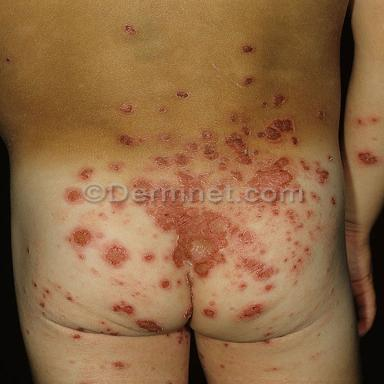Impetigo: (142, 201, 255, 277), (241, 203, 317, 275), (225, 133, 294, 189), (131, 169, 211, 188), (235, 256, 275, 279), (258, 119, 294, 141), (103, 241, 128, 267), (155, 153, 191, 168), (202, 131, 219, 160), (67, 229, 93, 247), (135, 319, 163, 333), (239, 304, 264, 319), (219, 170, 243, 184), (357, 151, 378, 165), (114, 301, 134, 315), (118, 133, 137, 147), (315, 168, 329, 185), (110, 202, 127, 214), (66, 190, 81, 203), (217, 157, 230, 170), (79, 168, 93, 180), (185, 142, 200, 152), (185, 272, 194, 288), (202, 308, 216, 318), (119, 103, 133, 113), (109, 161, 122, 171), (184, 305, 193, 319), (158, 133, 172, 142), (112, 361, 126, 370), (274, 95, 285, 106), (125, 25, 137, 35), (160, 279, 171, 289), (310, 192, 320, 203), (143, 253, 155, 262), (317, 109, 326, 120), (300, 161, 310, 170), (176, 91, 188, 98), (242, 45, 254, 52), (244, 77, 254, 85), (241, 127, 251, 135), (229, 114, 238, 122), (292, 137, 299, 145), (356, 119, 364, 125), (371, 118, 379, 124), (330, 197, 336, 205), (73, 334, 81, 339), (327, 155, 333, 161), (76, 327, 84, 331)
